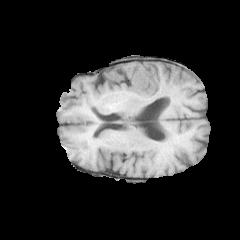glioma: (108, 65, 159, 103)
